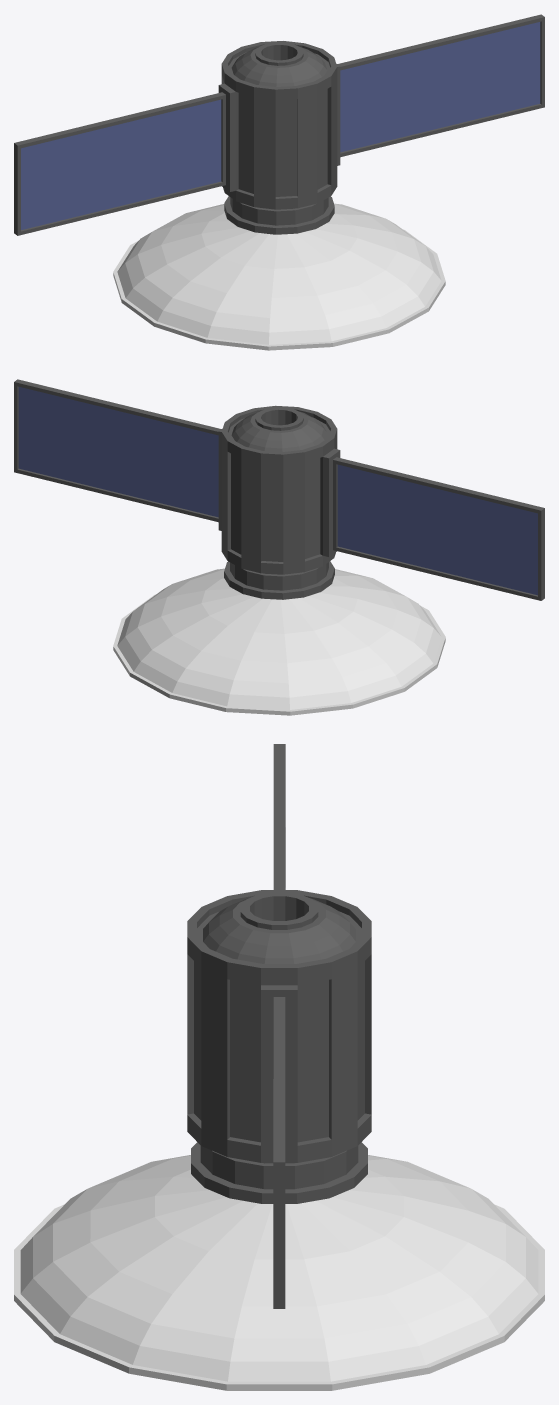
File: satellite.fbx
The picture shows the model from 3 angles, top to bottom: view 1: azimuth 30°, elevation 25°; view 2: azimuth 150°, elevation 25°; view 3: azimuth 270°, elevation 25°; orthographic projection. The views are drawn at different scales.
Parts seen in each view (by area): view 1: satellite; view 2: satellite; view 3: satellite.
Boxes of the visible parts, left/top/right/bottom form: satellite: left=14, top=14, right=544, bottom=350; satellite: left=14, top=379, right=544, bottom=715; satellite: left=14, top=744, right=544, bottom=1390.
Size of the model in its own units: 0.9068 by 0.3742 by 0.4868.
